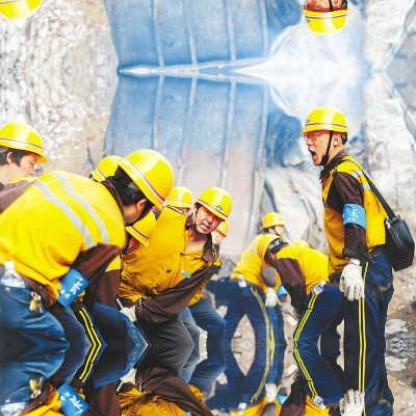Safety Helmet: (107, 141, 176, 227), (294, 101, 363, 172), (1, 111, 55, 190), (190, 180, 235, 248), (83, 146, 138, 192), (292, 1, 357, 37), (251, 233, 297, 268), (254, 204, 294, 238)
